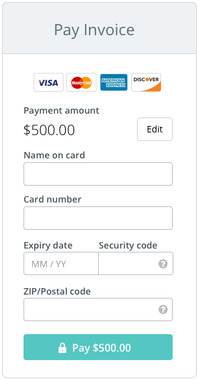_form_: (1, 1, 198, 380)
button: (22, 331, 175, 361), (134, 115, 176, 143)
field: (21, 160, 176, 189), (21, 203, 175, 231), (21, 296, 174, 322), (99, 249, 173, 278), (21, 250, 100, 277)
field_with_label: (19, 149, 180, 191), (19, 285, 176, 324), (18, 194, 178, 232), (19, 241, 99, 279), (98, 243, 177, 281)
